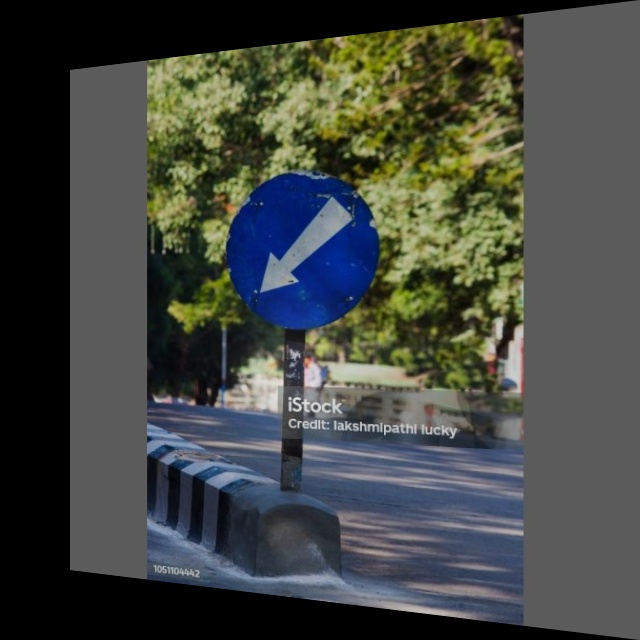Compulsory_Keep_Left: (221, 163, 389, 346)
